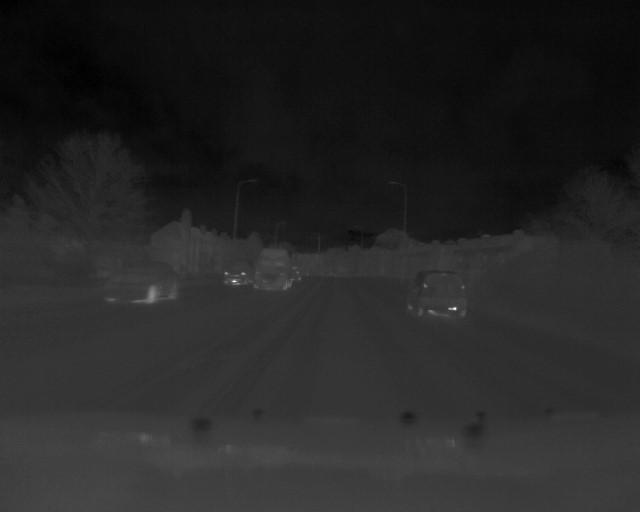car: (401, 266, 477, 321), (106, 259, 182, 300), (252, 248, 294, 293), (223, 260, 251, 289)
